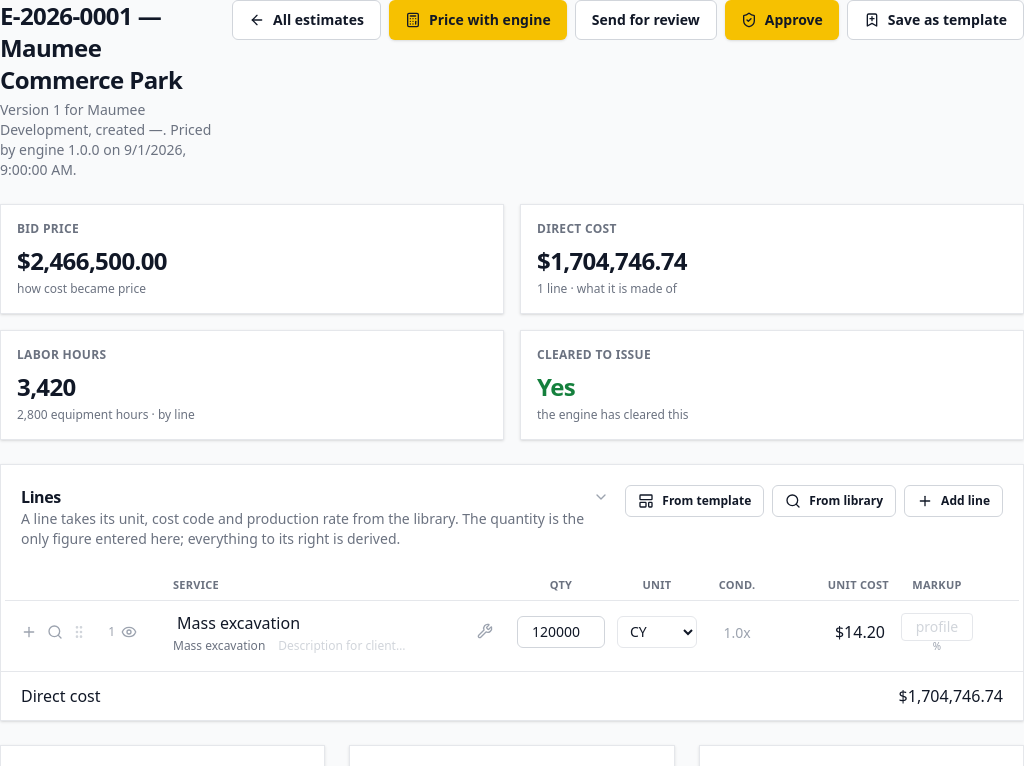
pricing an estimate from the workspace › says plainly that nothing was written when it could not price
Click the button "Price with engine".
click(478, 20)  # box [389,0,567,40]
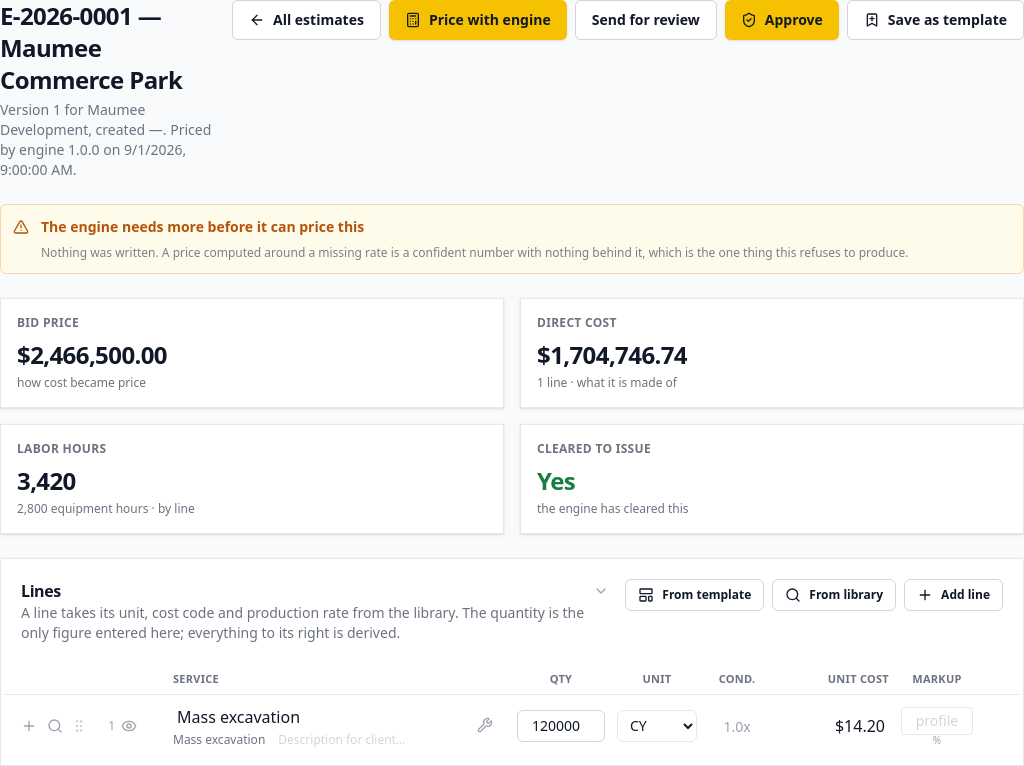
Result: the text "Nothing was written" is shown at [41,244,909,261]
